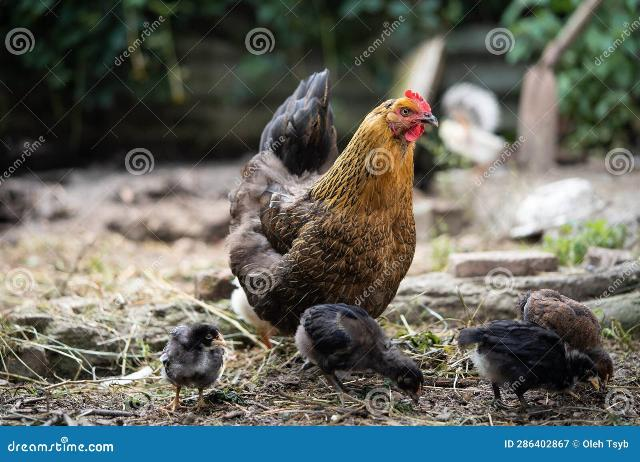Chicken: (228, 67, 438, 341)
